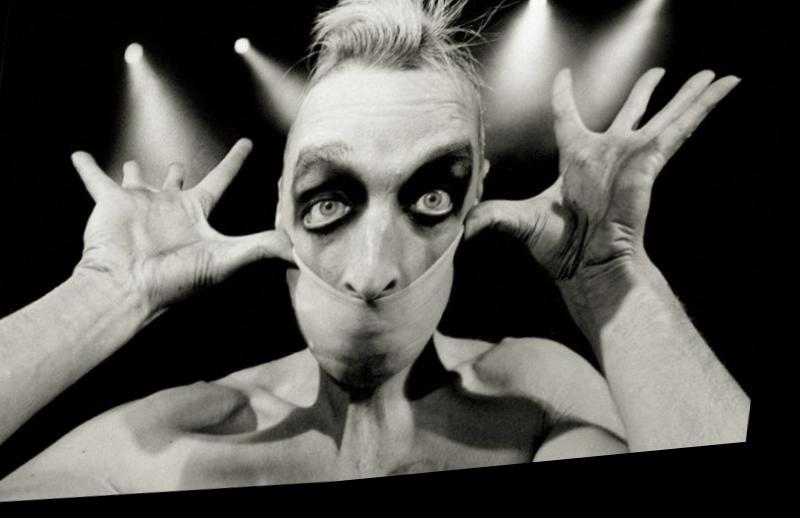WRONG: (277, 152, 481, 366)
